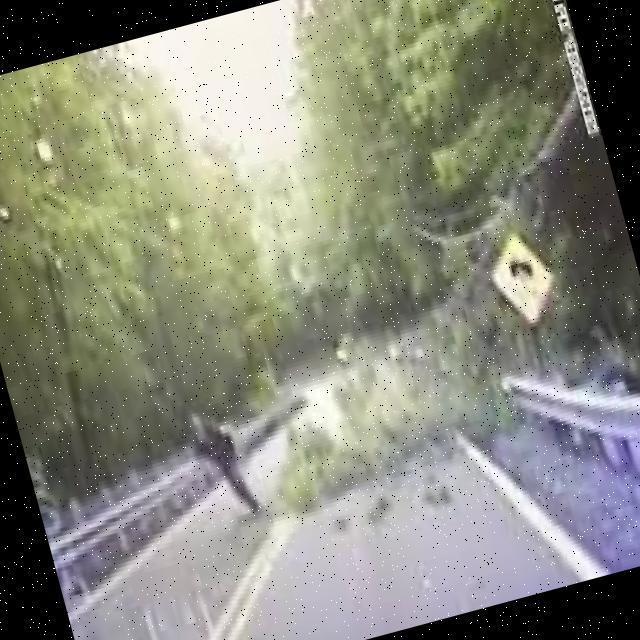fallen_object: (415, 86, 640, 335), (223, 336, 530, 514)
